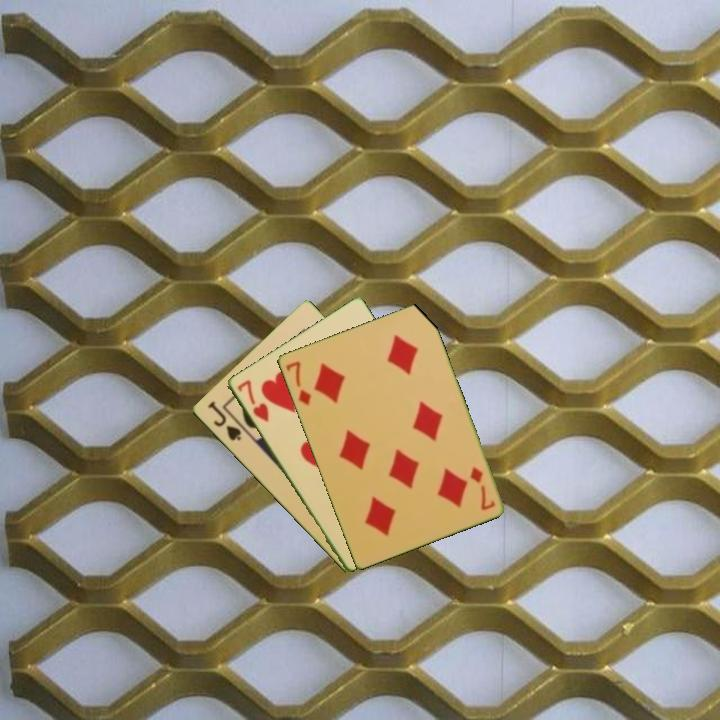7d: (282, 358, 314, 408), (466, 463, 498, 513)
7h: (233, 376, 272, 425)
Js: (204, 397, 244, 444)
